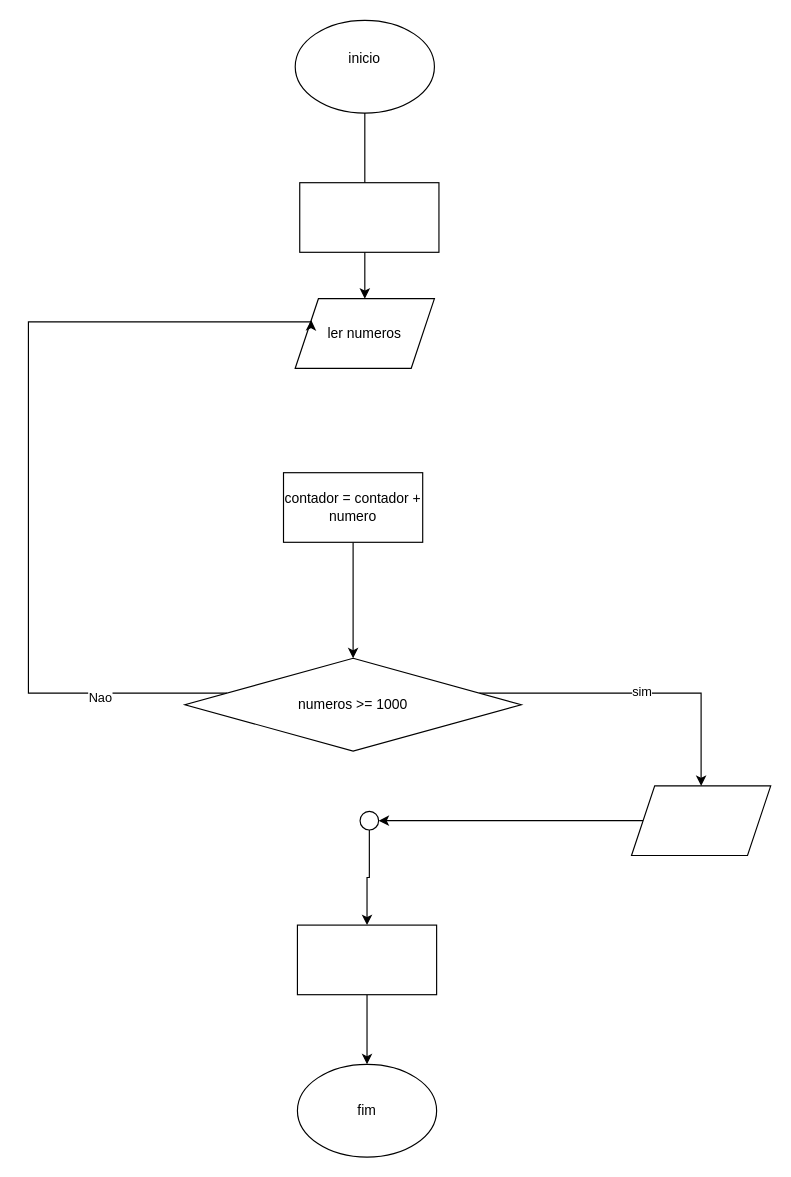
Some shapes in this 791 by 1177 pixel diagram are drawn without their labels. The shapes that lost their labels are listed below. From the top down, each one's centre as x and y in pixels, then its label:
the point at 369,217: contador = 0 somatorio=0
the point at 700,820: 1000 Valores acomulados
the point at 366,959: media = (contador+numero)/2
